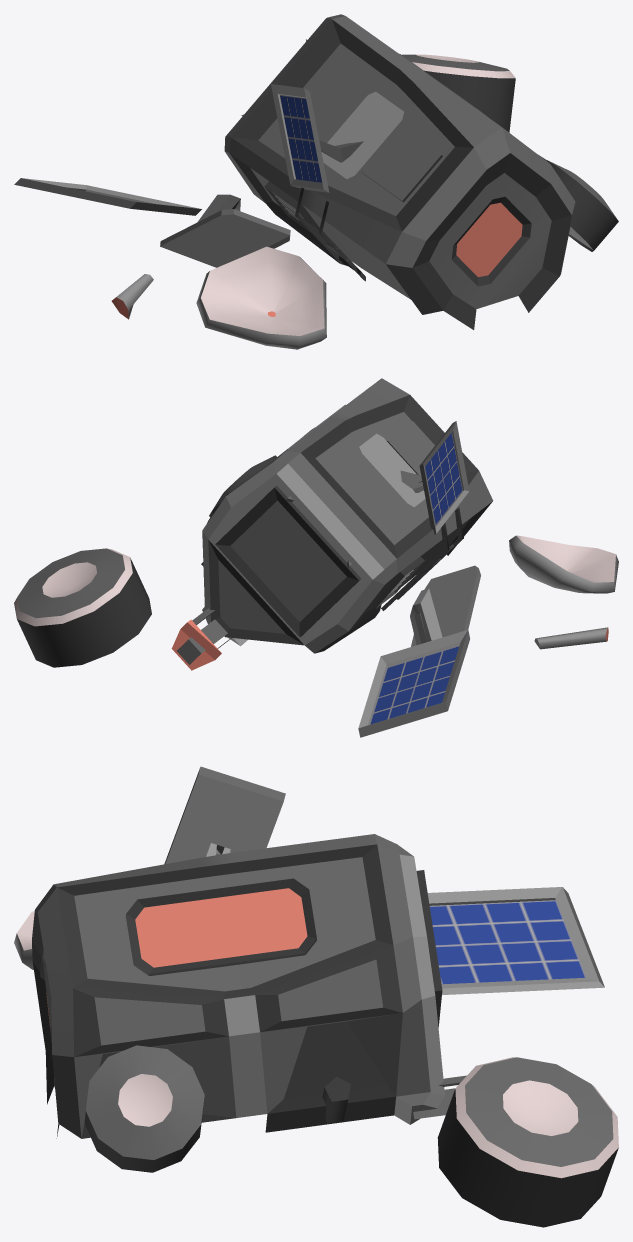
Rendered from Space_Junk_2.fbx.
3 views of the same model, one above another, from view 1: azimuth 30°, elevation 25°; view 2: azimuth 150°, elevation 25°; view 3: azimuth 270°, elevation 25° (orthographic). The views are drawn at different scales.
Visible parts, largest first — view 1: Space_Junk_2; view 2: Space_Junk_2; view 3: Space_Junk_2.
Boxes of the visible parts, <box> form: Space_Junk_2: <box>14,14,618,349</box>; Space_Junk_2: <box>14,378,618,737</box>; Space_Junk_2: <box>14,766,618,1227</box>.
Bounding box in the file's own units: 443 × 187 × 367.
